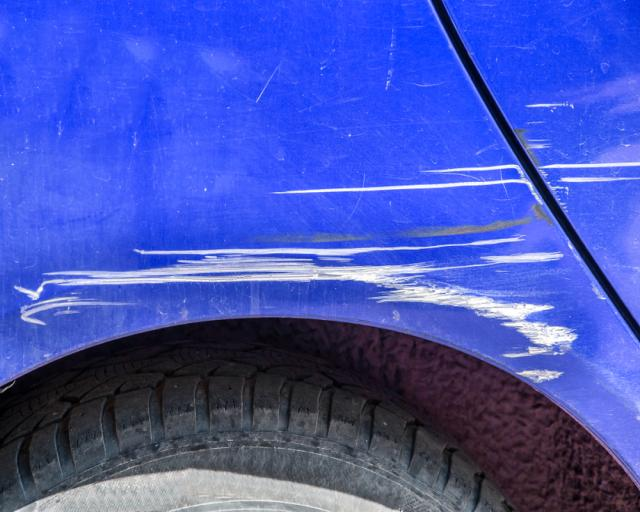scratch: (15, 165, 582, 383), (516, 101, 640, 215)
